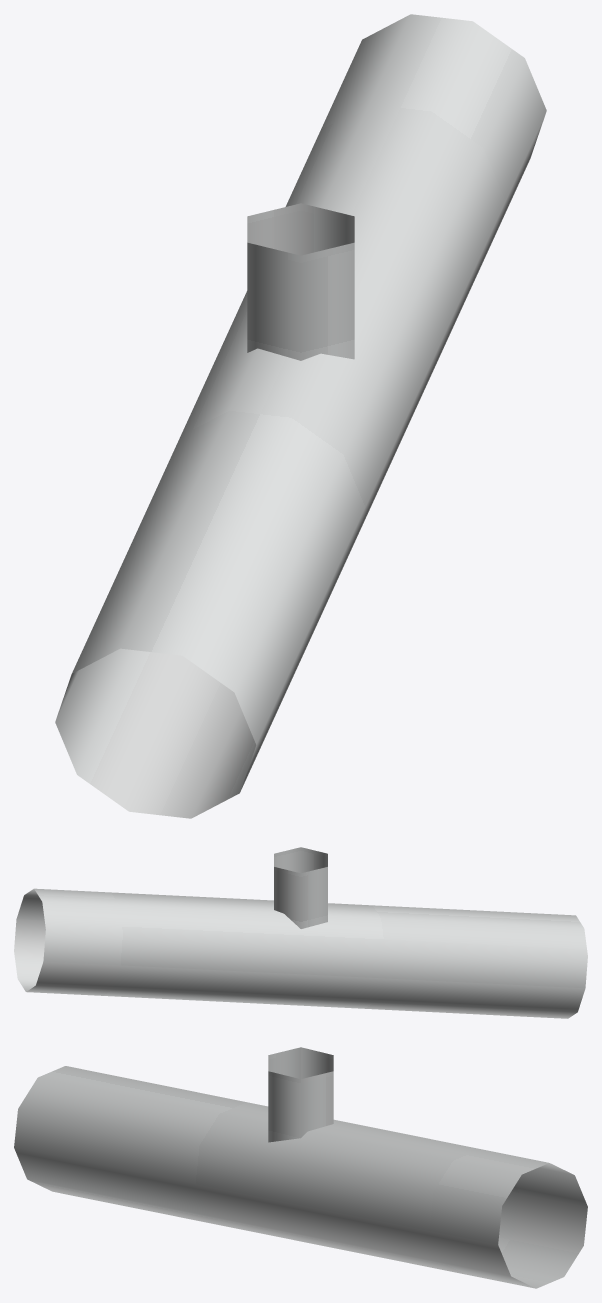
File: trusssignalarm_diagonal5_c2.obj
3 renders of one model, top to bottom at view 1: azimuth 30°, elevation 25°; view 2: azimuth 150°, elevation 25°; view 3: azimuth 270°, elevation 25°, orthographic. The views are drawn at different scales.
Parts seen in each view (by area): view 1: trusssignalarm_diagonal5_c2; view 2: trusssignalarm_diagonal5_c2; view 3: trusssignalarm_diagonal5_c2.
Boxes of the visible parts, bbox=[...] form: trusssignalarm_diagonal5_c2: bbox=[55, 14, 546, 818]; trusssignalarm_diagonal5_c2: bbox=[14, 847, 587, 1018]; trusssignalarm_diagonal5_c2: bbox=[14, 1047, 587, 1288].
Bounding box in the file's own units: 1.19 × 0.5055 × 1.19.
